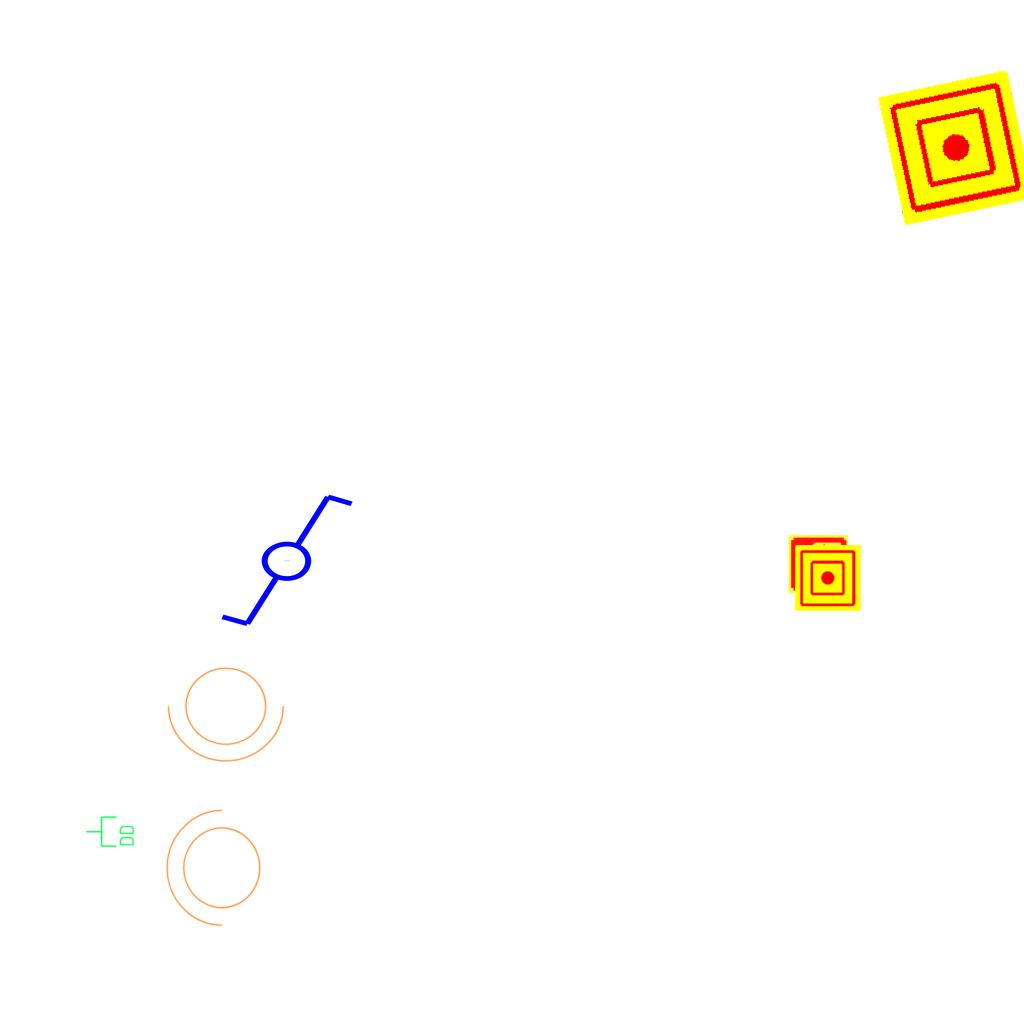ASR_Ansaugrauchmelder: (787, 533, 849, 595)
Datenanschluss_zweifach: (84, 814, 137, 850)
NAM-Nichtautomatischer_Melder: (877, 69, 1024, 227), (795, 545, 861, 611)
Scheinwerfer_fuer_Alarmbeleuchtung: (163, 655, 295, 767), (161, 805, 273, 937)
Wechselschalter: (200, 487, 357, 631)
